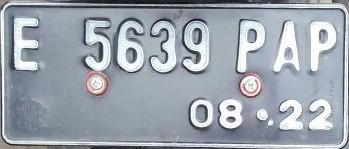clone-license-plate: (0, 1, 347, 148)
